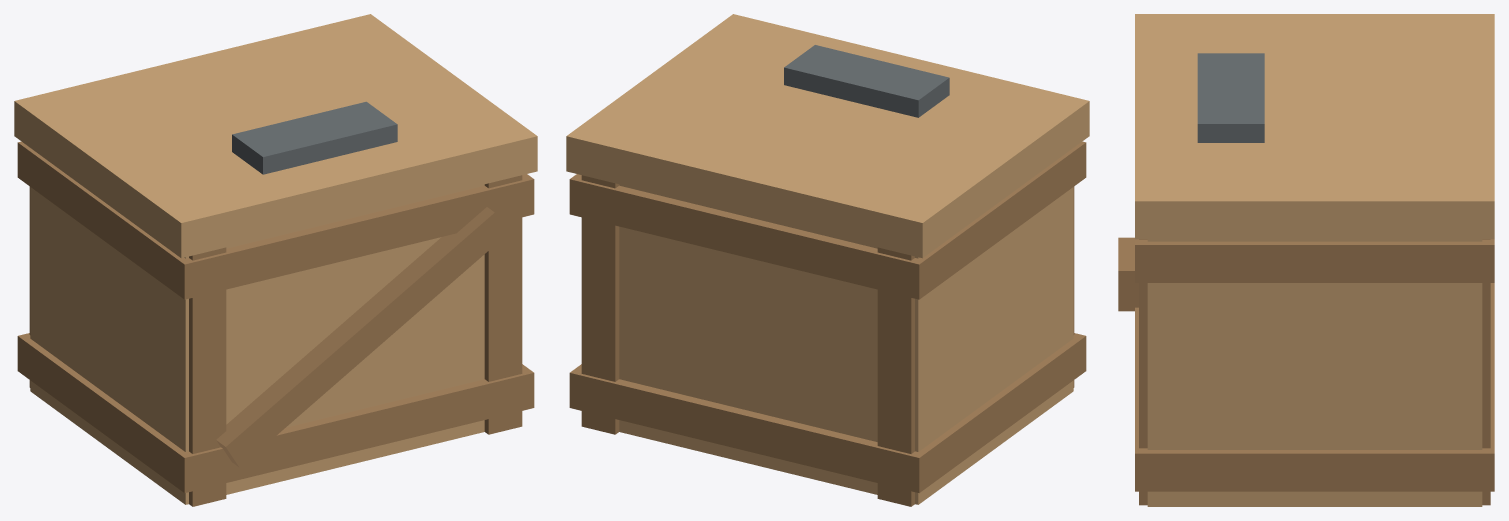
Rendered from supply-crate.glb.
The picture shows the model from 3 angles, left to right: view 1: azimuth 30°, elevation 25°; view 2: azimuth 150°, elevation 25°; view 3: azimuth 270°, elevation 25°; orthographic projection. The views are drawn at different scales.
Parts seen in each view (by area): view 1: supply-crate, lid/oak, lid/iron; view 2: supply-crate, lid/oak, lid/iron; view 3: supply-crate, lid/oak, lid/iron.
Part boxes in pixels (x1,y1,x2,y2): supply-crate: [17, 141, 534, 506]; lid/oak: [14, 14, 537, 258]; lid/iron: [232, 101, 397, 174]; supply-crate: [569, 141, 1086, 506]; lid/oak: [566, 14, 1089, 258]; lid/iron: [784, 45, 949, 117]; supply-crate: [1118, 237, 1494, 506]; lid/oak: [1135, 14, 1494, 239]; lid/iron: [1197, 53, 1264, 142].
Size of the model in its own units: 1.06 by 0.87 by 0.9.
